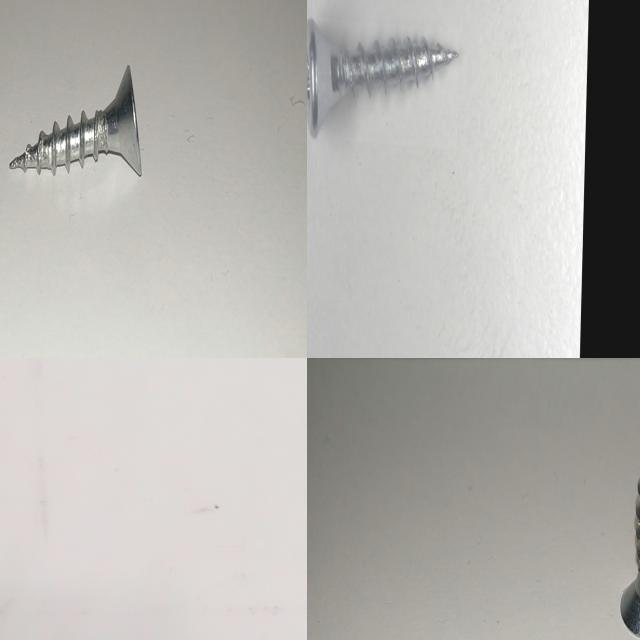Screw: (307, 18, 458, 138), (9, 64, 141, 174)
